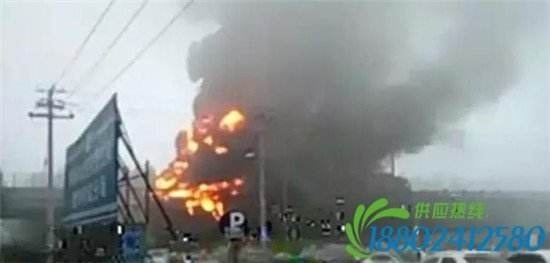fire: (150, 108, 249, 218)
